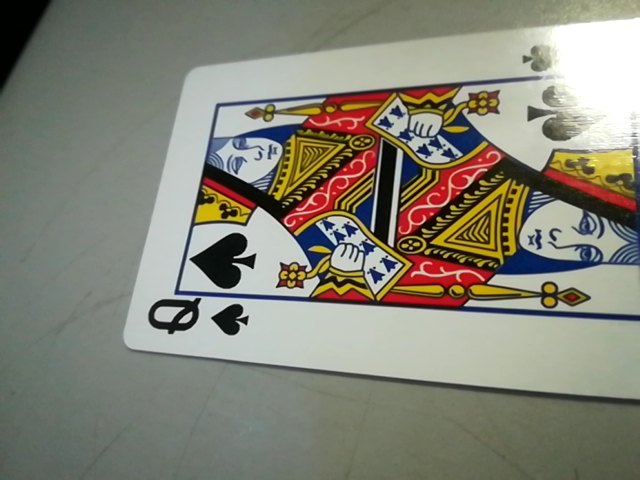ht q: (126, 284, 254, 350)
